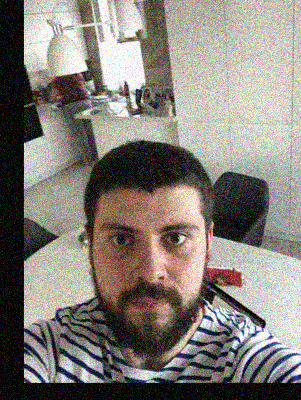without_mask: (91, 208, 202, 356)
